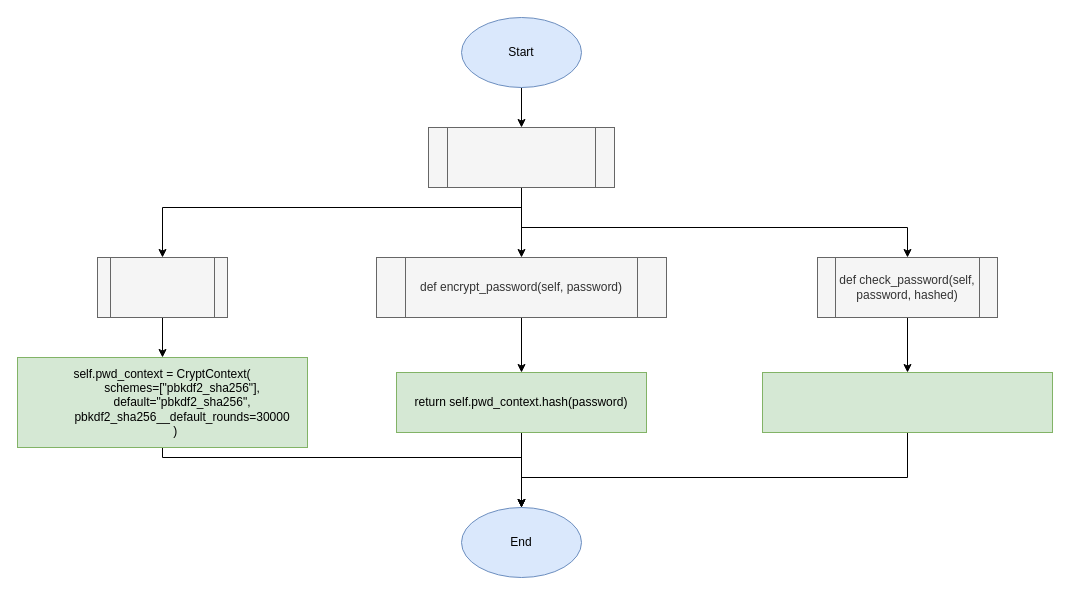
The diagram is 1070 pixels wide and 595 high, and some of its shapes have lost their labels. Here are the shapes that lost their labels. From the top down, the centre of each, then its label:
At (x=521, y=157): "class Hashing()".
At (x=162, y=287): "def __init__(self)".
At (x=907, y=402): "return self.pwd_context.verify(password, hashed)".
